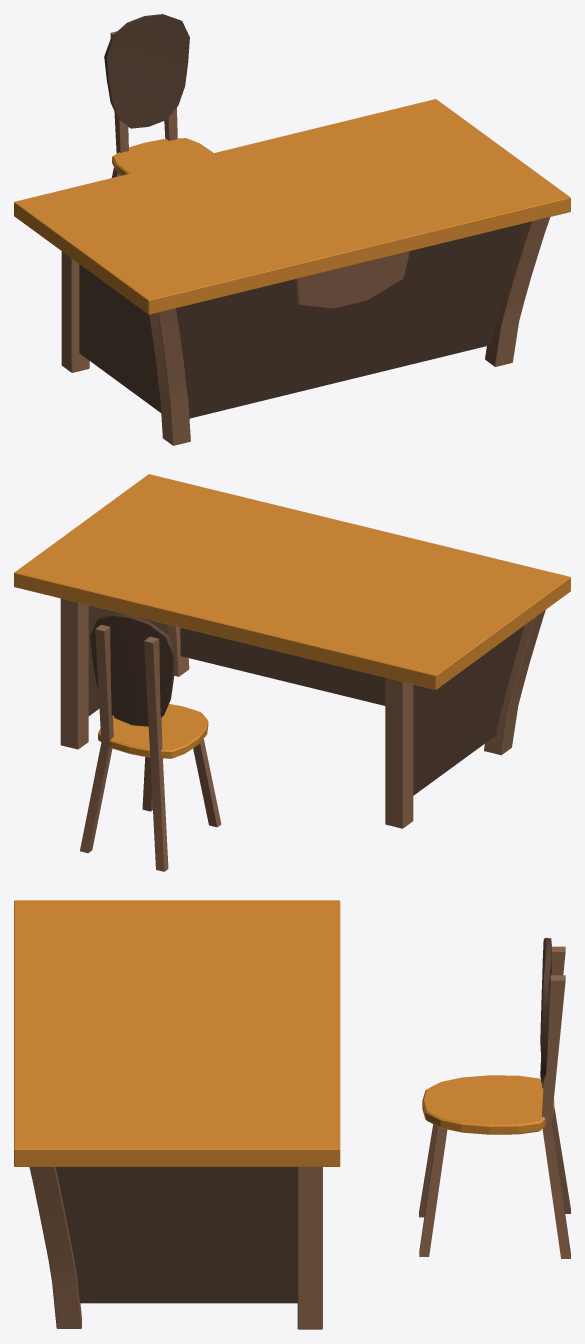
Rendered from table teacher.fbx.
3 views of the same model, one above another, from view 1: azimuth 30°, elevation 25°; view 2: azimuth 150°, elevation 25°; view 3: azimuth 270°, elevation 25° (orthographic). The views are drawn at different scales.
Visible parts, largest first — view 1: table_teacher, chair_teacher; view 2: table_teacher, chair_teacher; view 3: table_teacher, chair_teacher.
Part boxes in pixels (left/top/right/bottom): table_teacher: left=14, top=99, right=570, bottom=445; chair_teacher: left=104, top=14, right=213, bottom=177; table_teacher: left=14, top=474, right=570, bottom=828; chair_teacher: left=80, top=613, right=221, bottom=871; table_teacher: left=14, top=900, right=340, bottom=1329; chair_teacher: left=419, top=938, right=570, bottom=1258.
Size of the model in its own units: 135 by 73.09 by 128.
